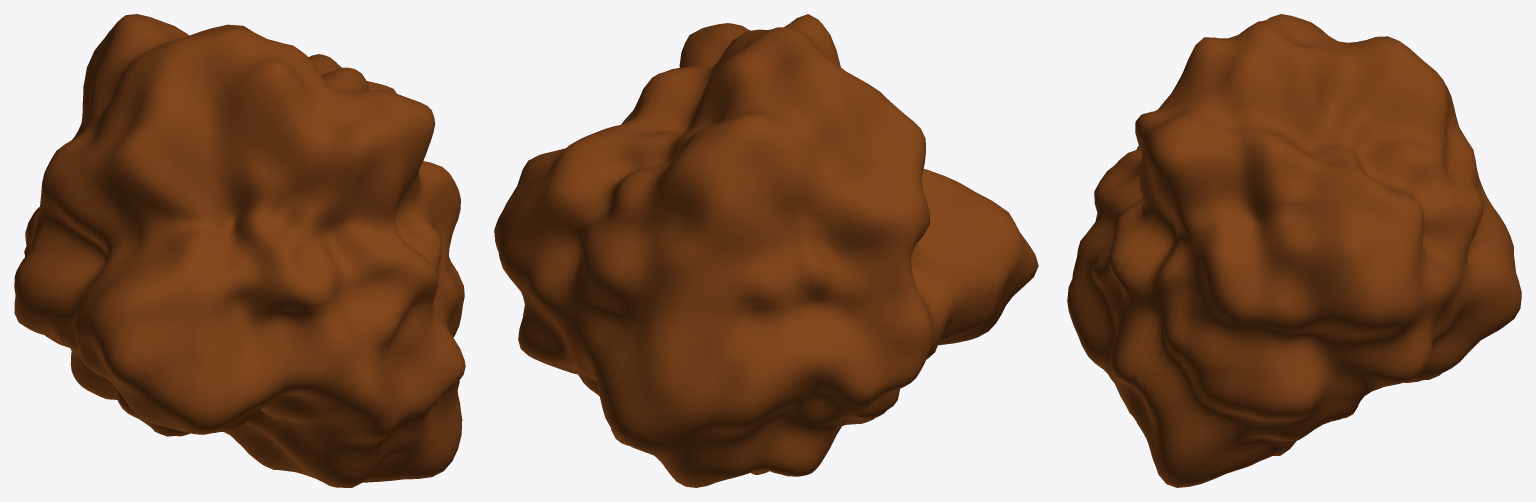
The model's file is asteroid1.fbx.
3 views of the same model, side by side, from view 1: azimuth 30°, elevation 25°; view 2: azimuth 150°, elevation 25°; view 3: azimuth 270°, elevation 25° (orthographic). The views are drawn at different scales.
Parts seen in each view (by area): view 1: Cube; view 2: Cube; view 3: Cube.
Boxes of the visible parts, x1,y1,x2,y2 form: Cube: (14, 14, 465, 487); Cube: (494, 14, 1038, 487); Cube: (1067, 14, 1521, 487).
Bounding box in the file's own units: 189 × 192 × 199.
